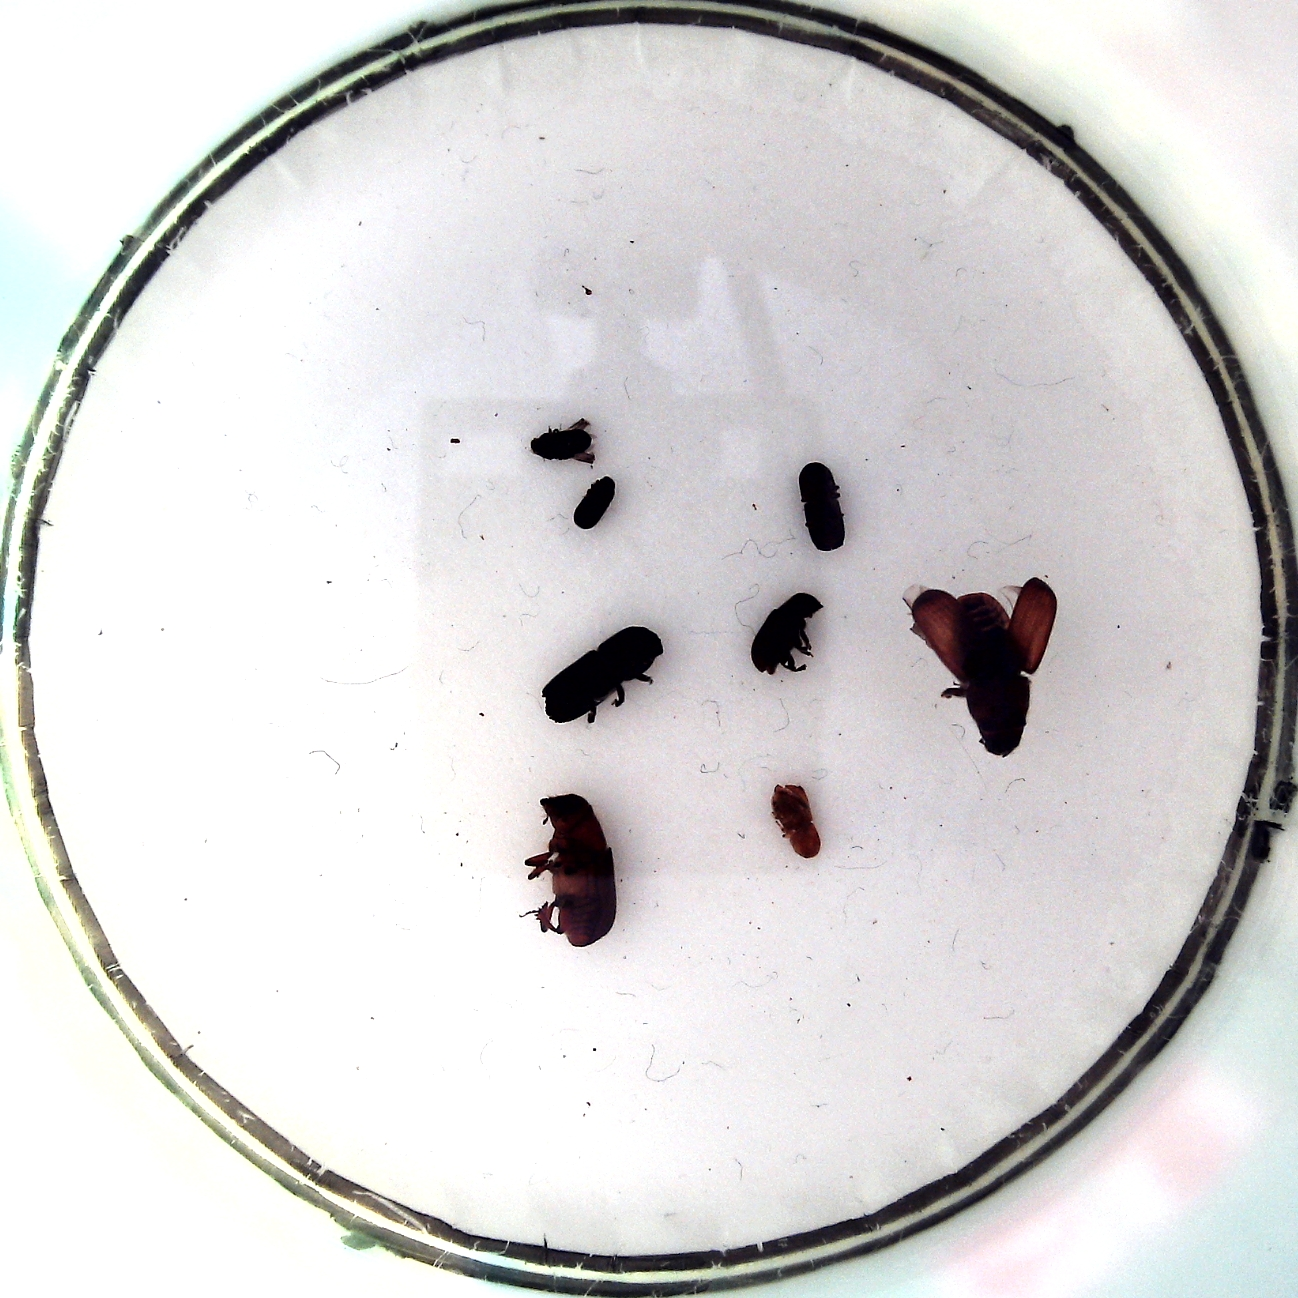Boerner: (541, 626, 663, 724)
Leconte: (954, 593, 1032, 758), (538, 790, 616, 947)
acuminatus: (530, 430, 592, 458)
armandi: (749, 592, 823, 674)
coleoptera: (771, 785, 823, 858), (573, 475, 615, 530)
linnaeus: (798, 462, 845, 550)
